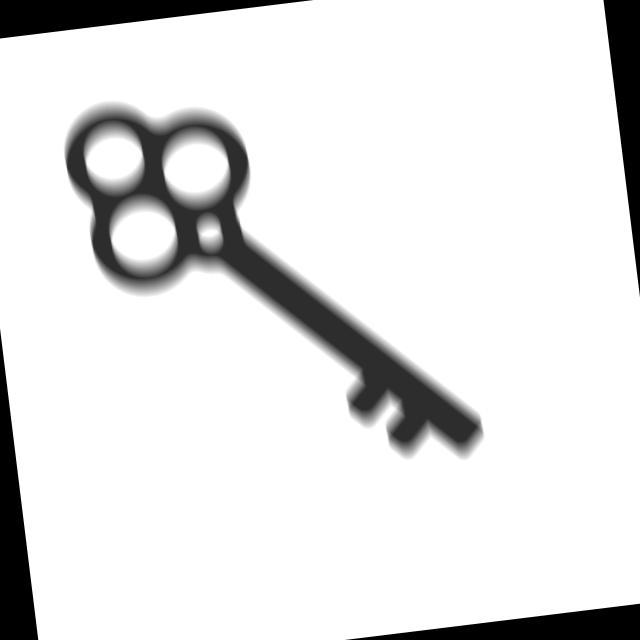key: (50, 50, 498, 512)
